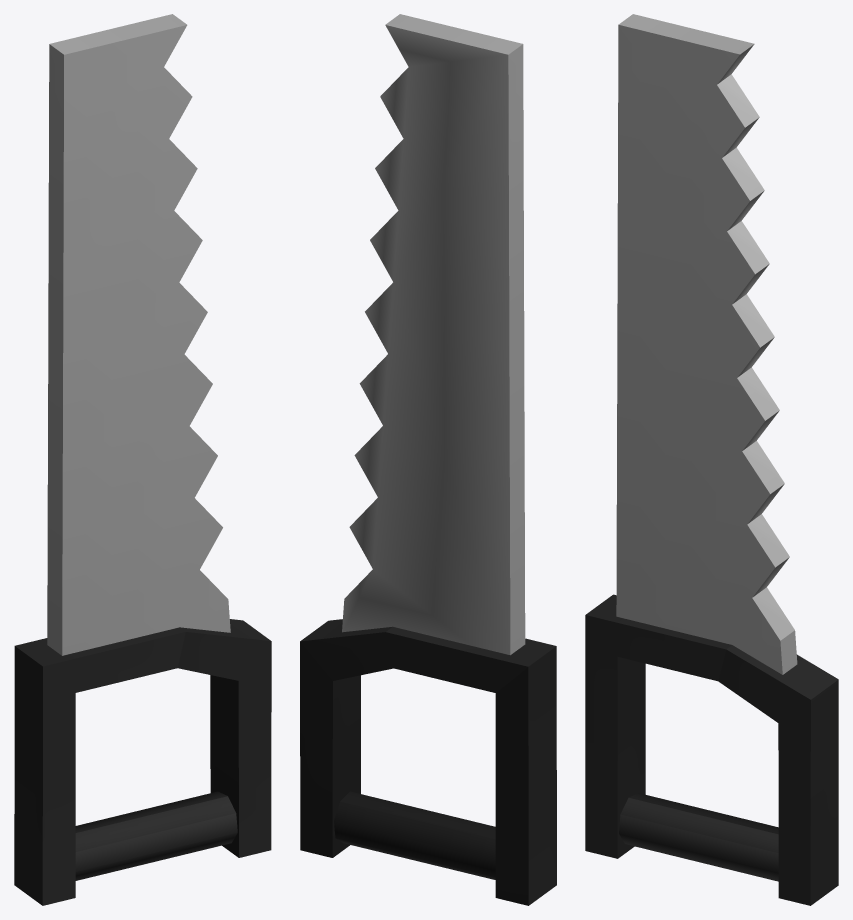
Rendered from Saw.fbx.
3 renders of one model, left to right at view 1: azimuth 30°, elevation 25°; view 2: azimuth 150°, elevation 25°; view 3: azimuth 330°, elevation 25°, orthographic.
Visible parts, largest first — view 1: Saw; view 2: Saw; view 3: Saw.
Part boxes in pixels (bbox=[...]): Saw: bbox=[14, 14, 271, 905]; Saw: bbox=[300, 14, 556, 905]; Saw: bbox=[585, 14, 838, 905].
Bounding box in the file's own units: 116 × 408 × 24.95.
